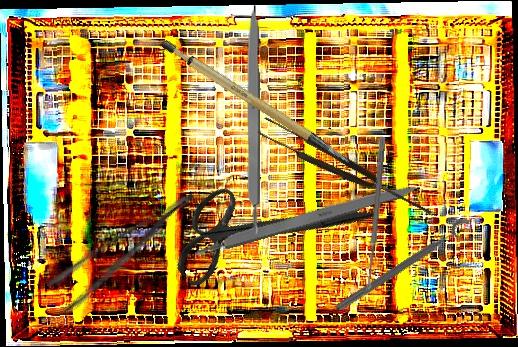Dressing Forceps: (44, 189, 211, 316)
Fixation Ring: (331, 214, 481, 324)
Iris Scissors: (154, 120, 378, 340)
Scalpel Handle: (157, 16, 353, 193), (192, 178, 422, 258), (245, 4, 260, 236)
Surgical Spoon: (365, 136, 386, 291)
Tissue Forceps: (255, 114, 438, 225)
